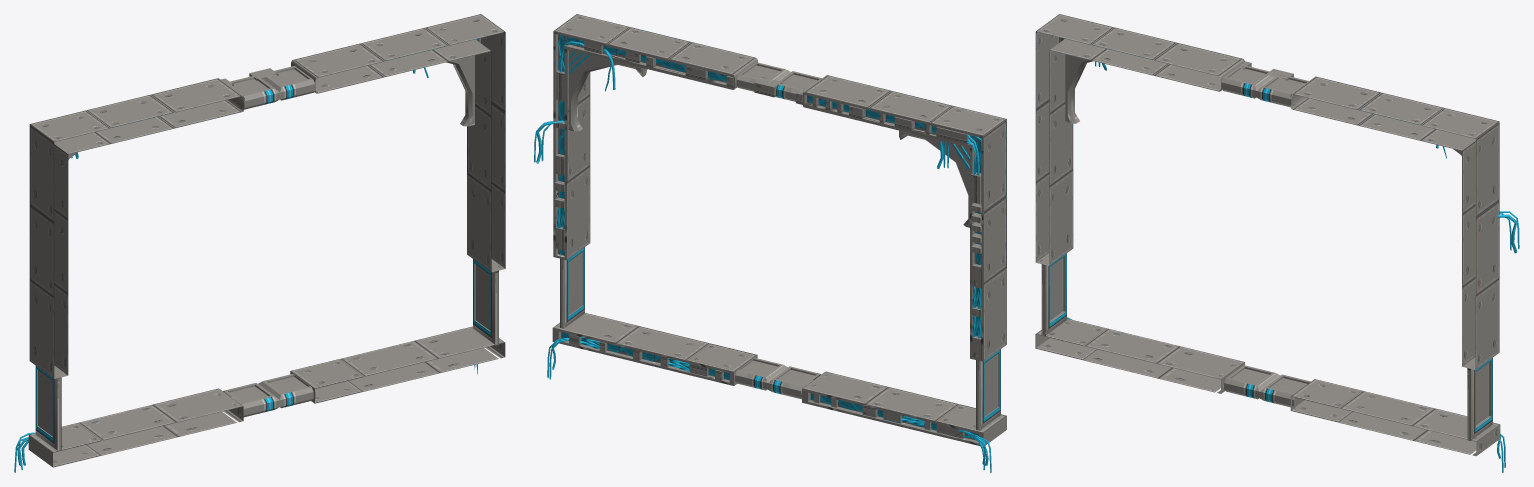
Rendered from ShopFBx.fbx.
3 renders of one model, left to right at view 1: azimuth 30°, elevation 25°; view 2: azimuth 150°, elevation 25°; view 3: azimuth 330°, elevation 25°, orthographic. The views are drawn at different scales.
Visible parts, largest first — view 1: CornerBase10, CornerBase5, wallPiece5, wallPiece4, TopDoorLeft (×2), TopDoorRight (×2), RightSideDoor, LeftSideDoor, Arch2; view 2: CornerBase10, CornerBase5, wallPiece5, wallPiece4, TopDoorLeft (×2), TopDoorRight (×2), LeftSideDoor, RightSideDoor, Arch2, Arch; view 3: CornerBase5, CornerBase10, wallPiece4, wallPiece5, TopDoorRight (×2), TopDoorLeft (×2), LeftSideDoor, RightSideDoor, Arch.
Boxes of the visible parts, x1,y1,x2,y2 form: CornerBase10: (29, 78, 244, 378); CornerBase5: (291, 14, 505, 272); wallPiece5: (28, 388, 243, 467); wallPiece4: (290, 326, 505, 403); TopDoorLeft (×2): (258, 65, 315, 408); TopDoorRight (×2): (223, 75, 279, 417); RightSideDoor: (35, 366, 61, 450); LeftSideDoor: (473, 259, 498, 345); Arch2: (446, 39, 476, 126); CornerBase10: (802, 75, 1006, 361); CornerBase5: (553, 14, 757, 260); wallPiece5: (802, 371, 1006, 445); wallPiece4: (552, 313, 757, 385); TopDoorLeft (×2): (735, 62, 790, 390); TopDoorRight (×2): (767, 71, 821, 399); LeftSideDoor: (560, 247, 584, 328); RightSideDoor: (976, 349, 1000, 430); Arch2: (568, 50, 647, 131); Arch: (899, 130, 969, 227); CornerBase5: (1290, 76, 1499, 369); CornerBase10: (1035, 14, 1244, 265); wallPiece4: (1290, 379, 1500, 456); wallPiece5: (1035, 318, 1244, 393); TopDoorRight (×2): (1221, 64, 1280, 399); TopDoorLeft (×2): (1256, 73, 1310, 408); LeftSideDoor: (1467, 358, 1492, 440); RightSideDoor: (1041, 253, 1066, 335); Arch: (1063, 38, 1093, 123).
Size of the model in its own units: 33.73 by 24.56 by 4.09.
